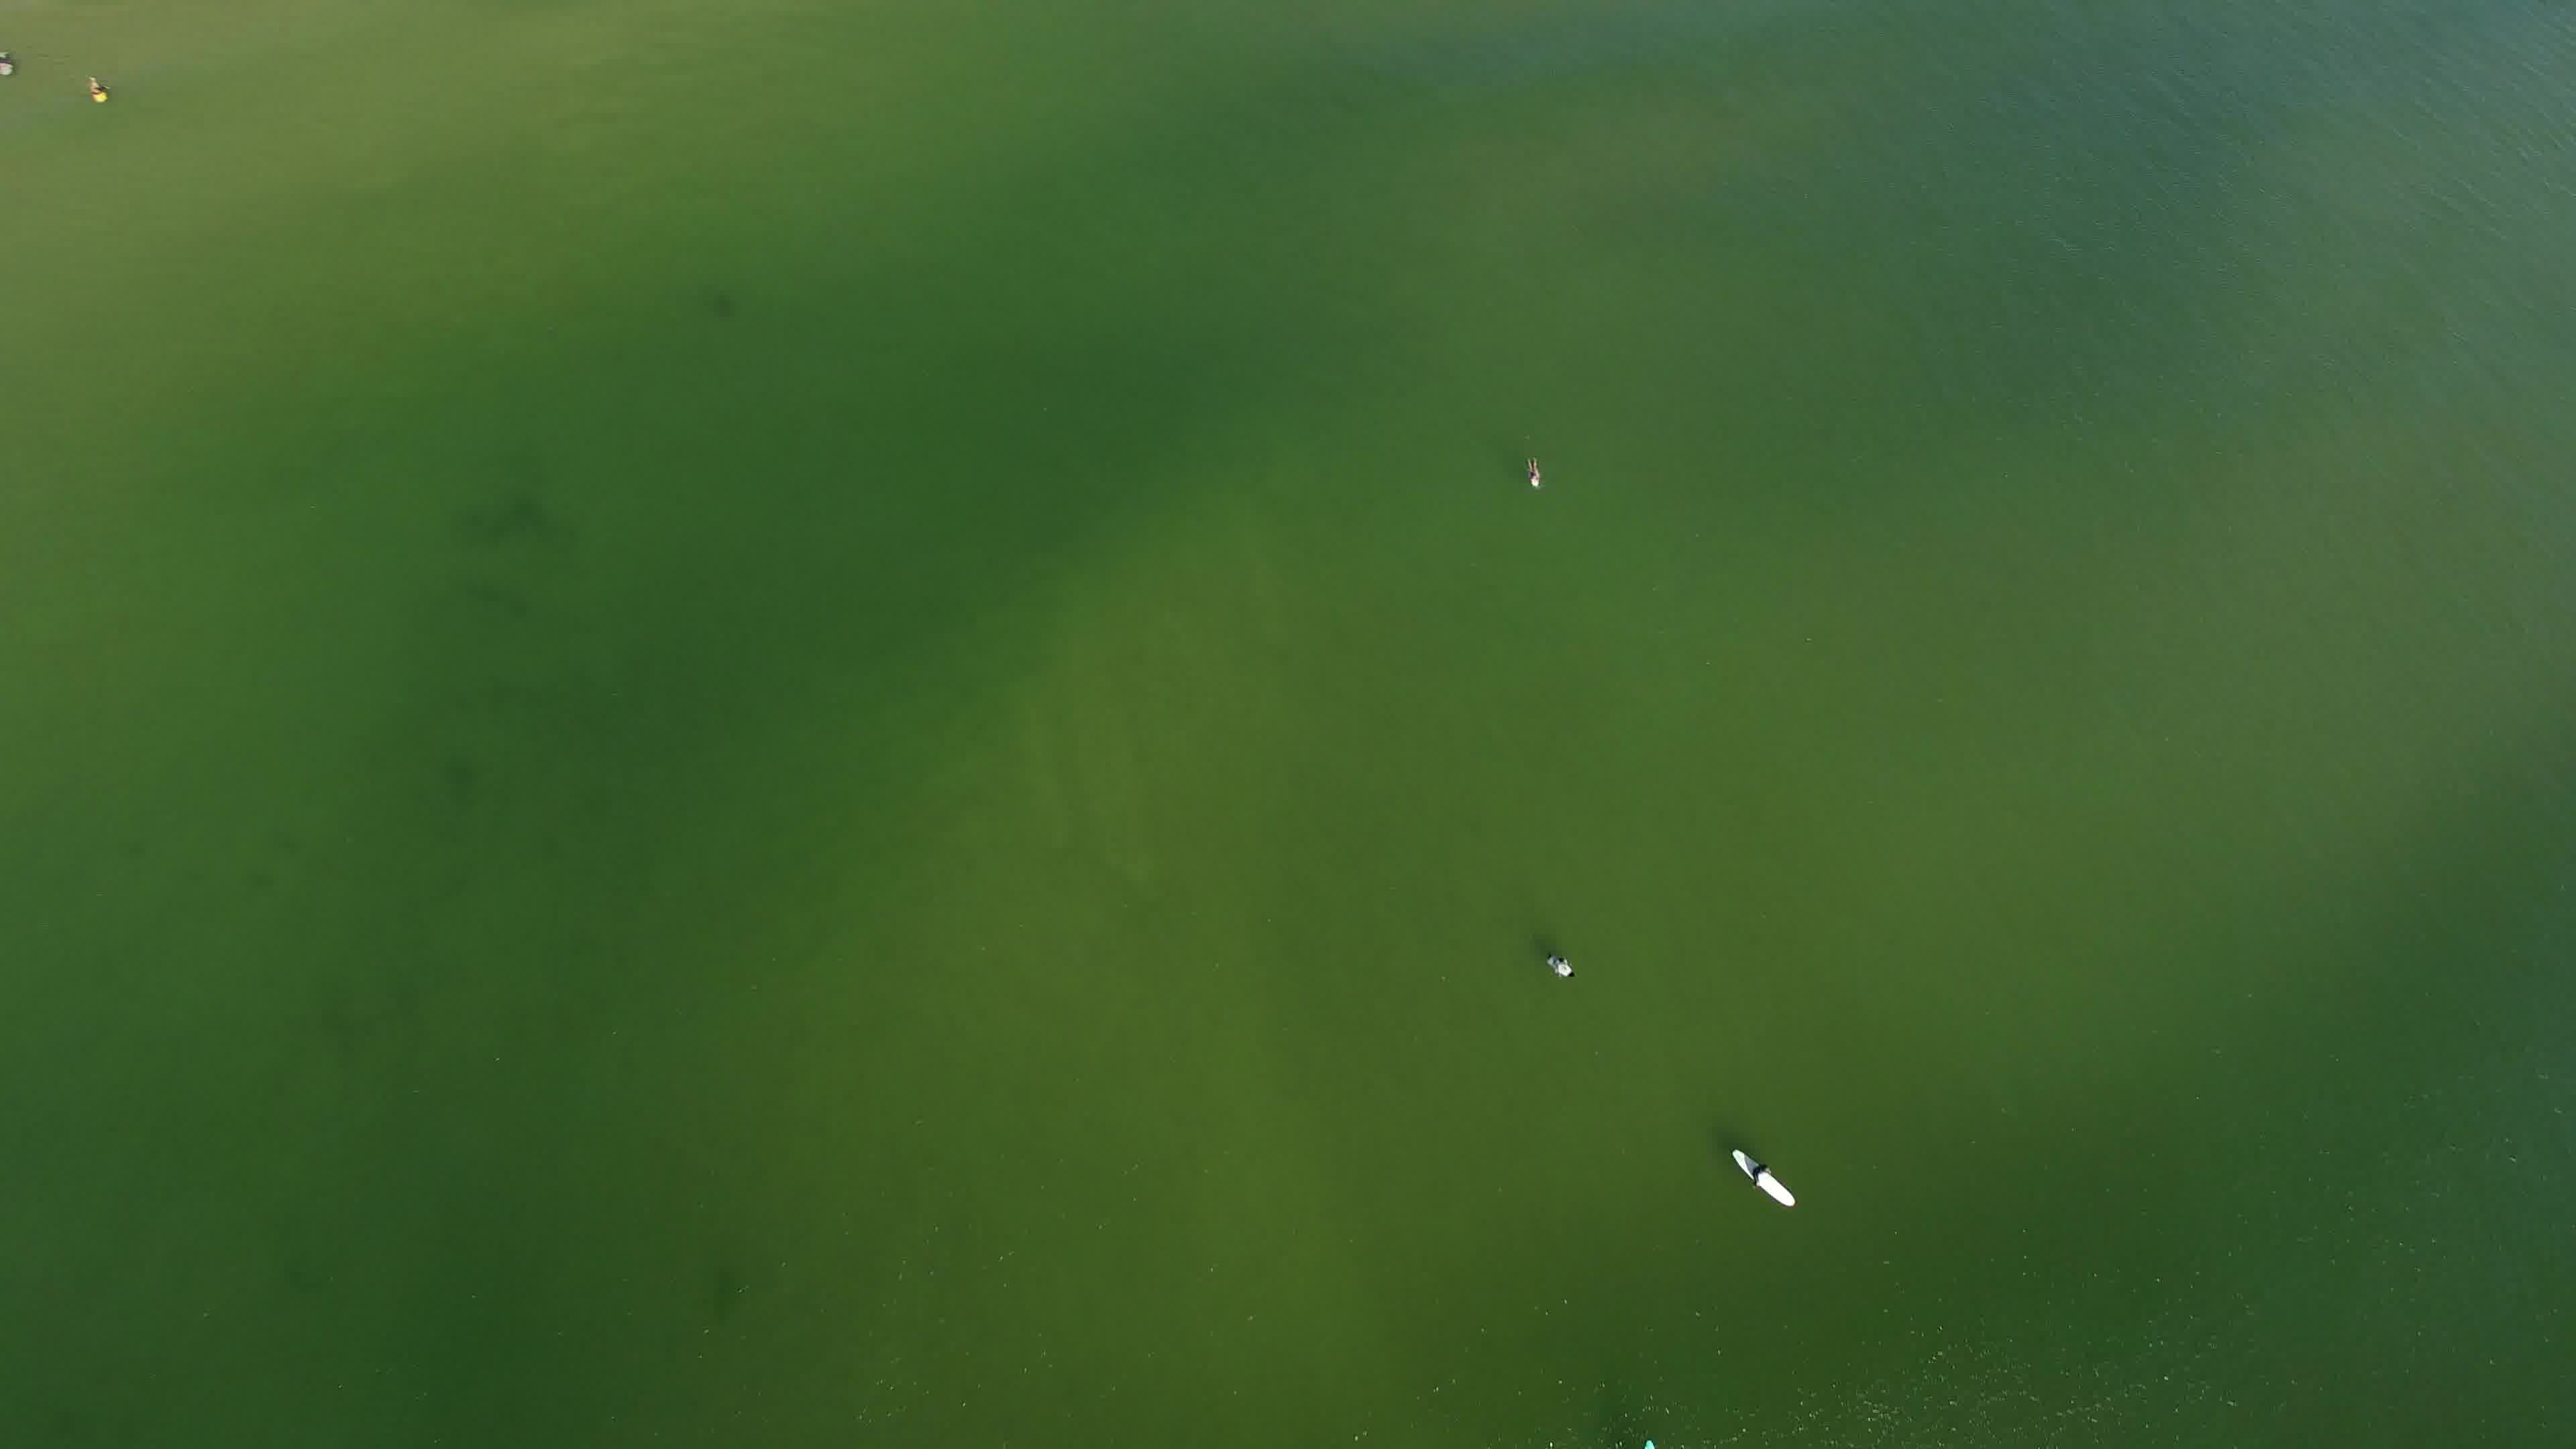surfer: (1723, 1139, 1805, 1214), (1541, 950, 1585, 985)
